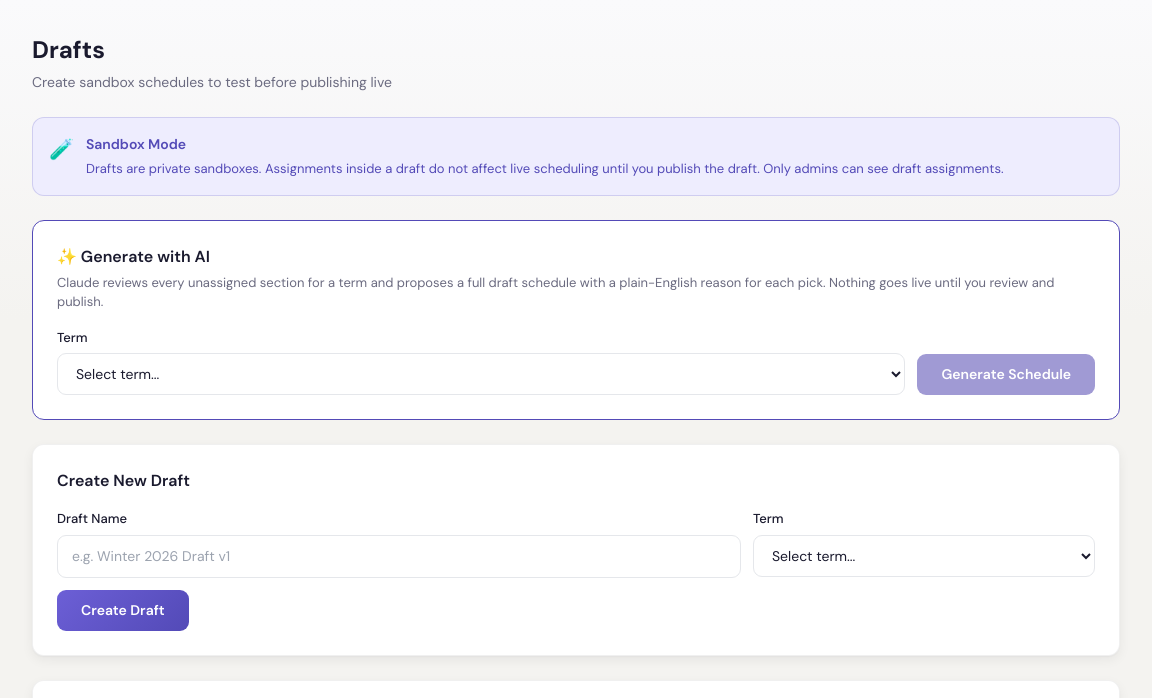
Scenario: AdminDrafts › generates a full AI draft: creates the draft, inserts accepted assignments with rationale, and links to it
Select "Winter 2026" in the dropdown labelled "Term" below "✨ Generate with AI": (481, 374) [57,353,906,395]
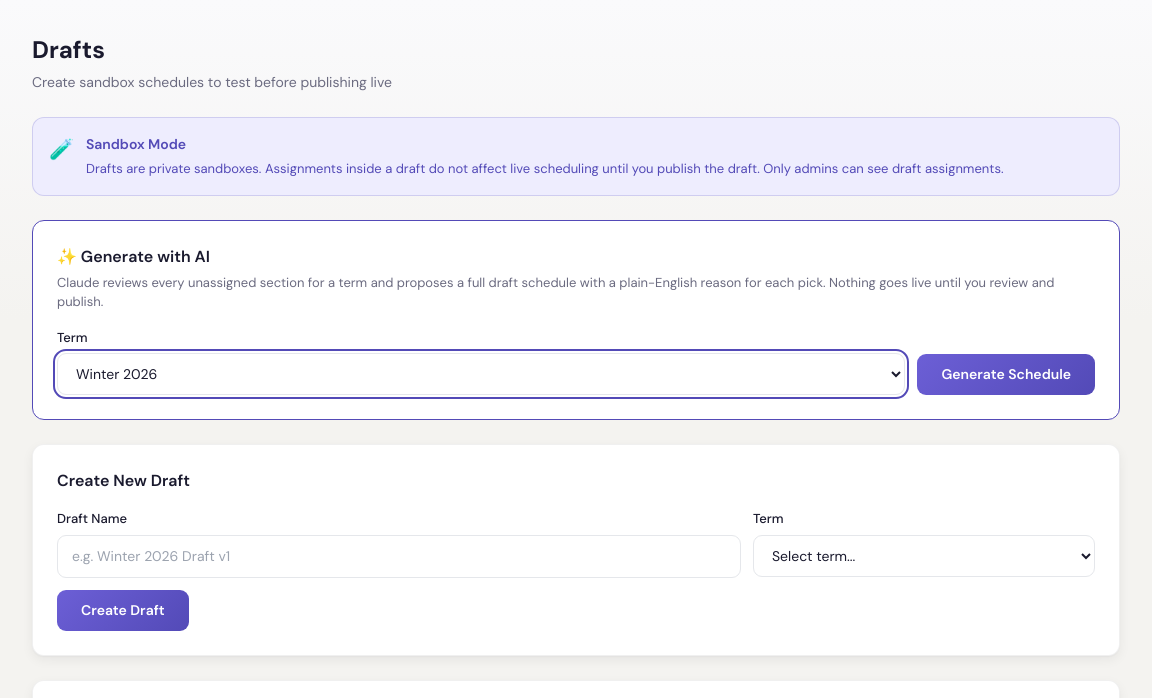
Click the button "Generate Schedule": (1006, 374) [918,354,1095,395]
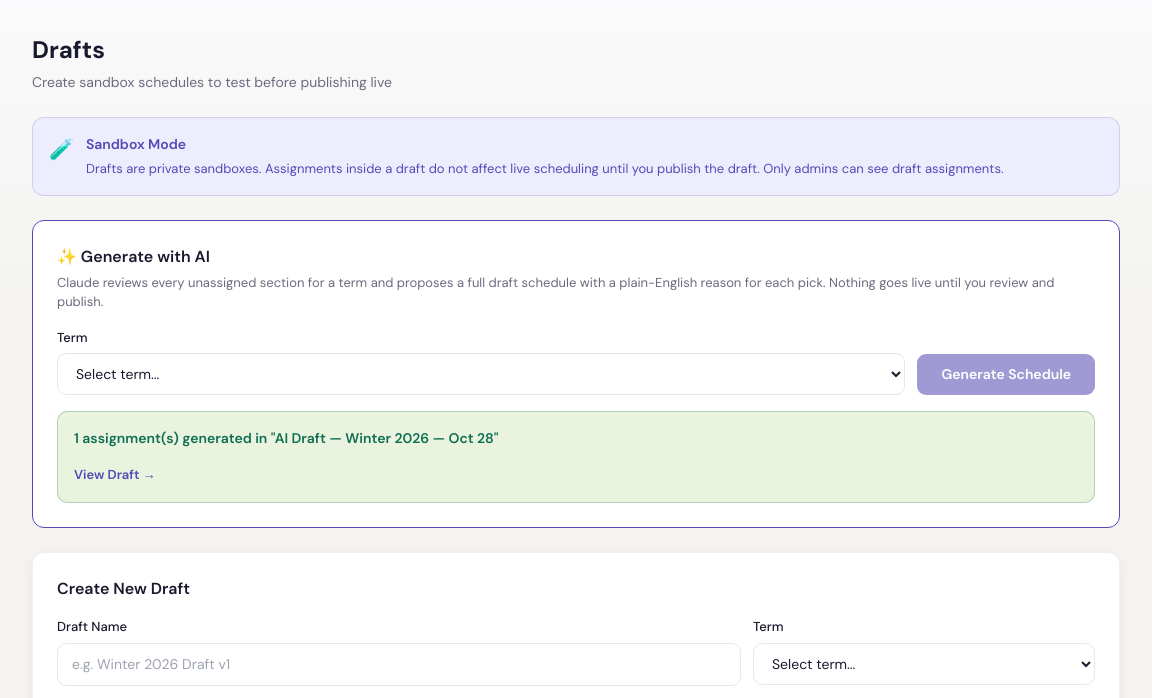
expect the text "1 assignment(s) generated in" is shown: met, box [74,429,499,447]
expect the link "View Draft →" is shown: met, box [74,465,156,484]
